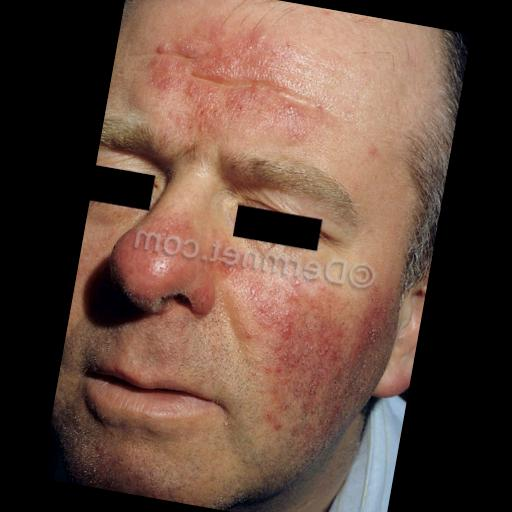Skin_Lesion: (152, 40, 282, 137), (114, 220, 194, 298), (350, 294, 402, 390), (254, 268, 294, 334), (262, 376, 310, 422), (316, 326, 346, 370), (353, 14, 383, 36), (125, 0, 153, 17)
